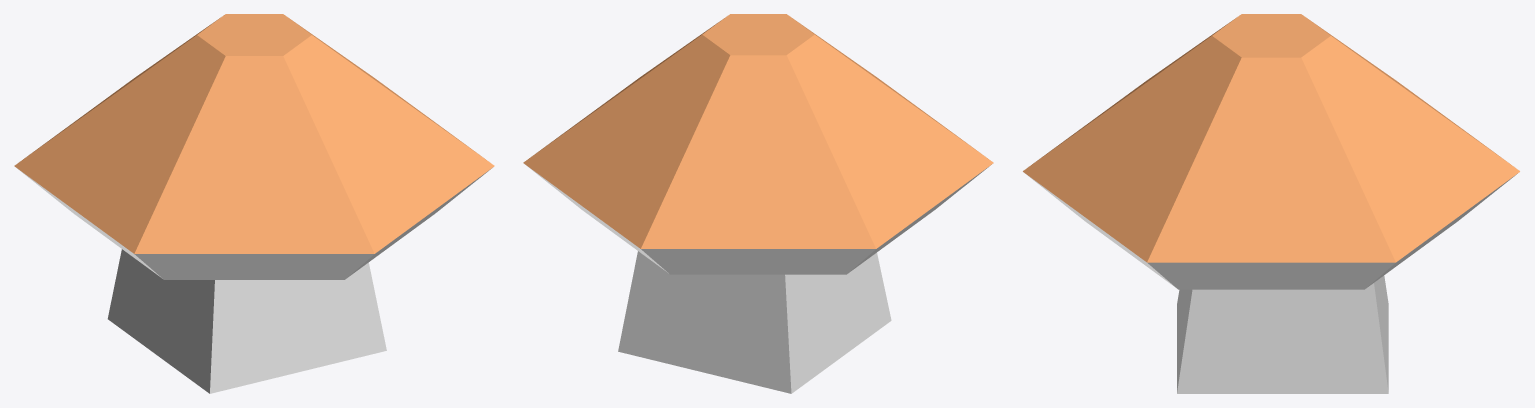
The model's file is mushroom-tan.glb.
The picture shows the model from 3 angles, left to right: view 1: azimuth 30°, elevation 25°; view 2: azimuth 150°, elevation 25°; view 3: azimuth 270°, elevation 25°; orthographic projection. The views are drawn at different scales.
Visible parts, largest first — view 1: mushroom_tan; view 2: mushroom_tan; view 3: mushroom_tan.
Part boxes in pixels (x1=…): mushroom_tan: x1=14, y1=14, x2=494, y2=393; mushroom_tan: x1=523, y1=14, x2=993, y2=393; mushroom_tan: x1=1023, y1=14, x2=1519, y2=393.
Bounding box in the file's own units: 0.1914 × 0.1539 × 0.221.
